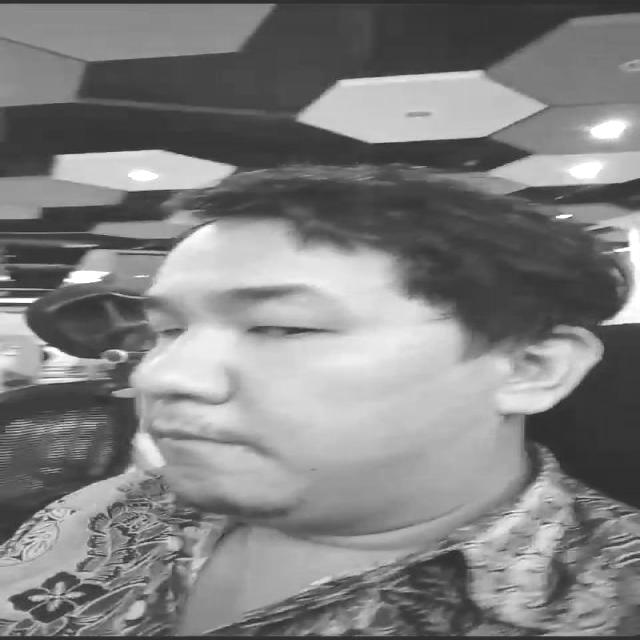real: (126, 210, 514, 516)
